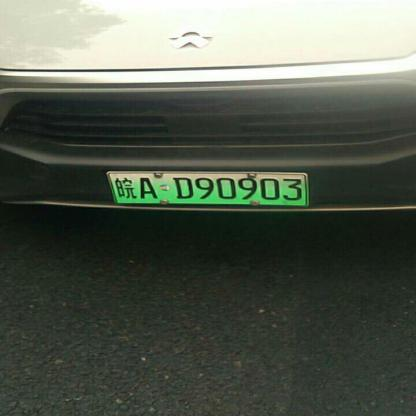lp: (108, 173, 306, 204)
